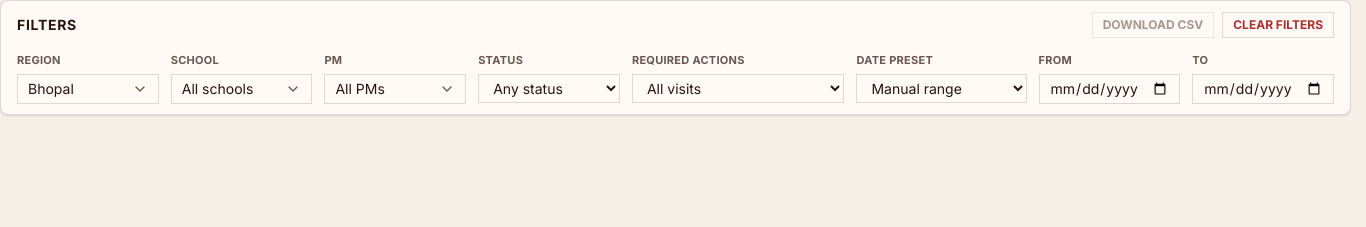
it: VisitSummaryFilterBar › drops the regions param when the last Region is unticked
Click the button "Bhopal" at (88,89), box [17,74,159,104]
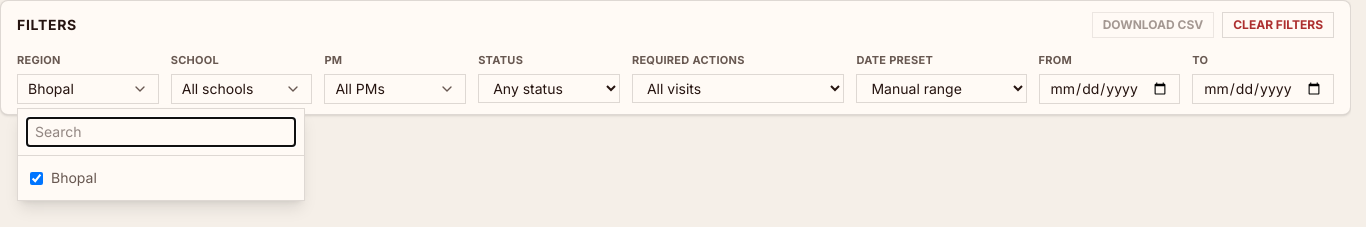
Click the checkbox labelled "Bhopal" at (36,178), box [30,172,43,184]
Wait 300 ms
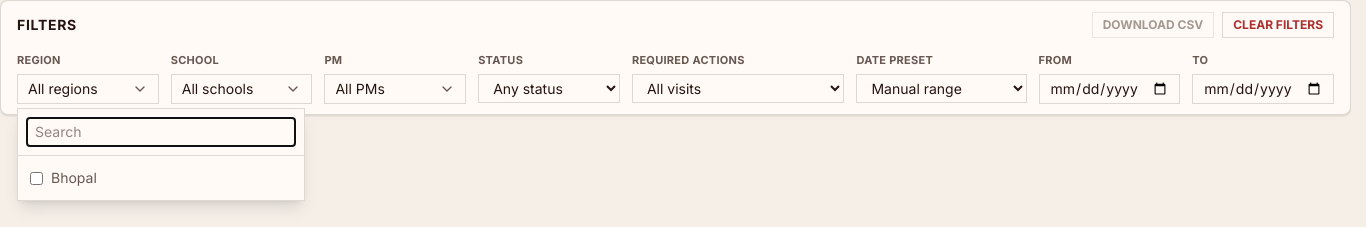
expect the button "All regions" is shown: met, box [17,74,159,104]
